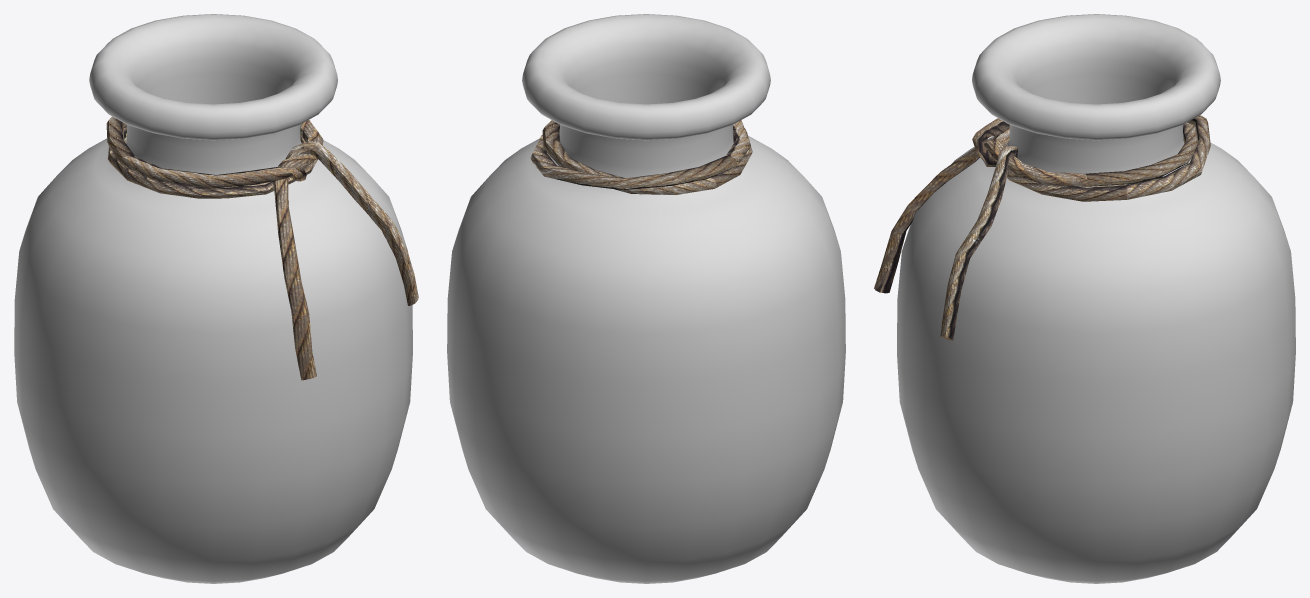
File: SM_GlassVase.fbx
The picture shows the model from 3 angles, left to right: view 1: azimuth 30°, elevation 25°; view 2: azimuth 150°, elevation 25°; view 3: azimuth 270°, elevation 25°; orthographic projection.
Parts seen in each view (by area): view 1: SM_GlassVase; view 2: SM_GlassVase; view 3: SM_GlassVase.
Boxes of the visible parts, <box> form: SM_GlassVase: <box>14,14,418,583</box>; SM_GlassVase: <box>447,14,845,583</box>; SM_GlassVase: <box>874,14,1295,583</box>.
Size of the model in its own units: 9.65 by 13.12 by 10.2.
